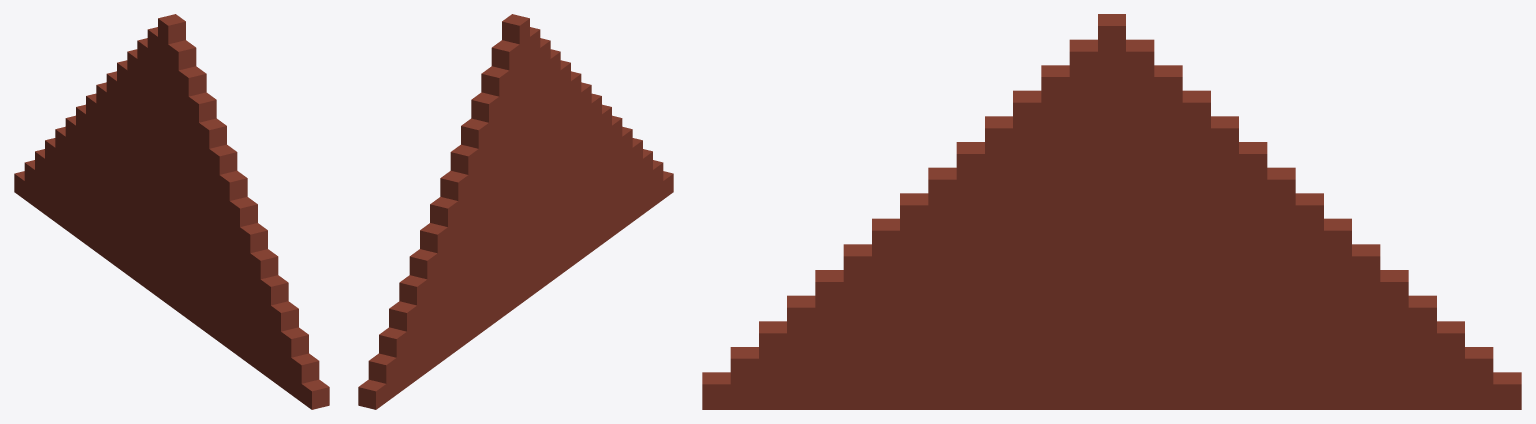
File: ConstructionMaterials-22.obj
3 renders of one model, left to right at view 1: azimuth 30°, elevation 25°; view 2: azimuth 150°, elevation 25°; view 3: azimuth 270°, elevation 25°, orthographic. The views are drawn at different scales.
Size of the model in its own units: 0.1 by 1.5 by 2.9.
Materials: 1 (1 with a texture image).
